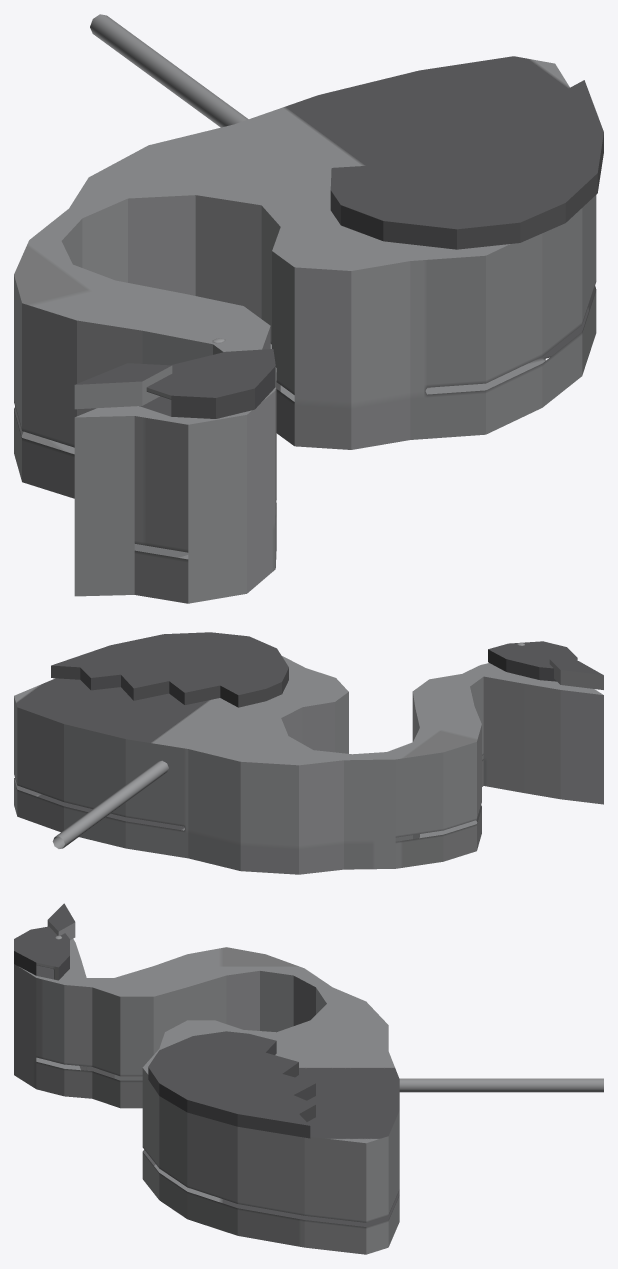
3 renders of one model, top to bottom at view 1: azimuth 30°, elevation 25°; view 2: azimuth 150°, elevation 25°; view 3: azimuth 270°, elevation 25°, orthographic. The views are drawn at different scales.
Size of the model in its own units: 0.7905 by 0.236 by 0.897.
